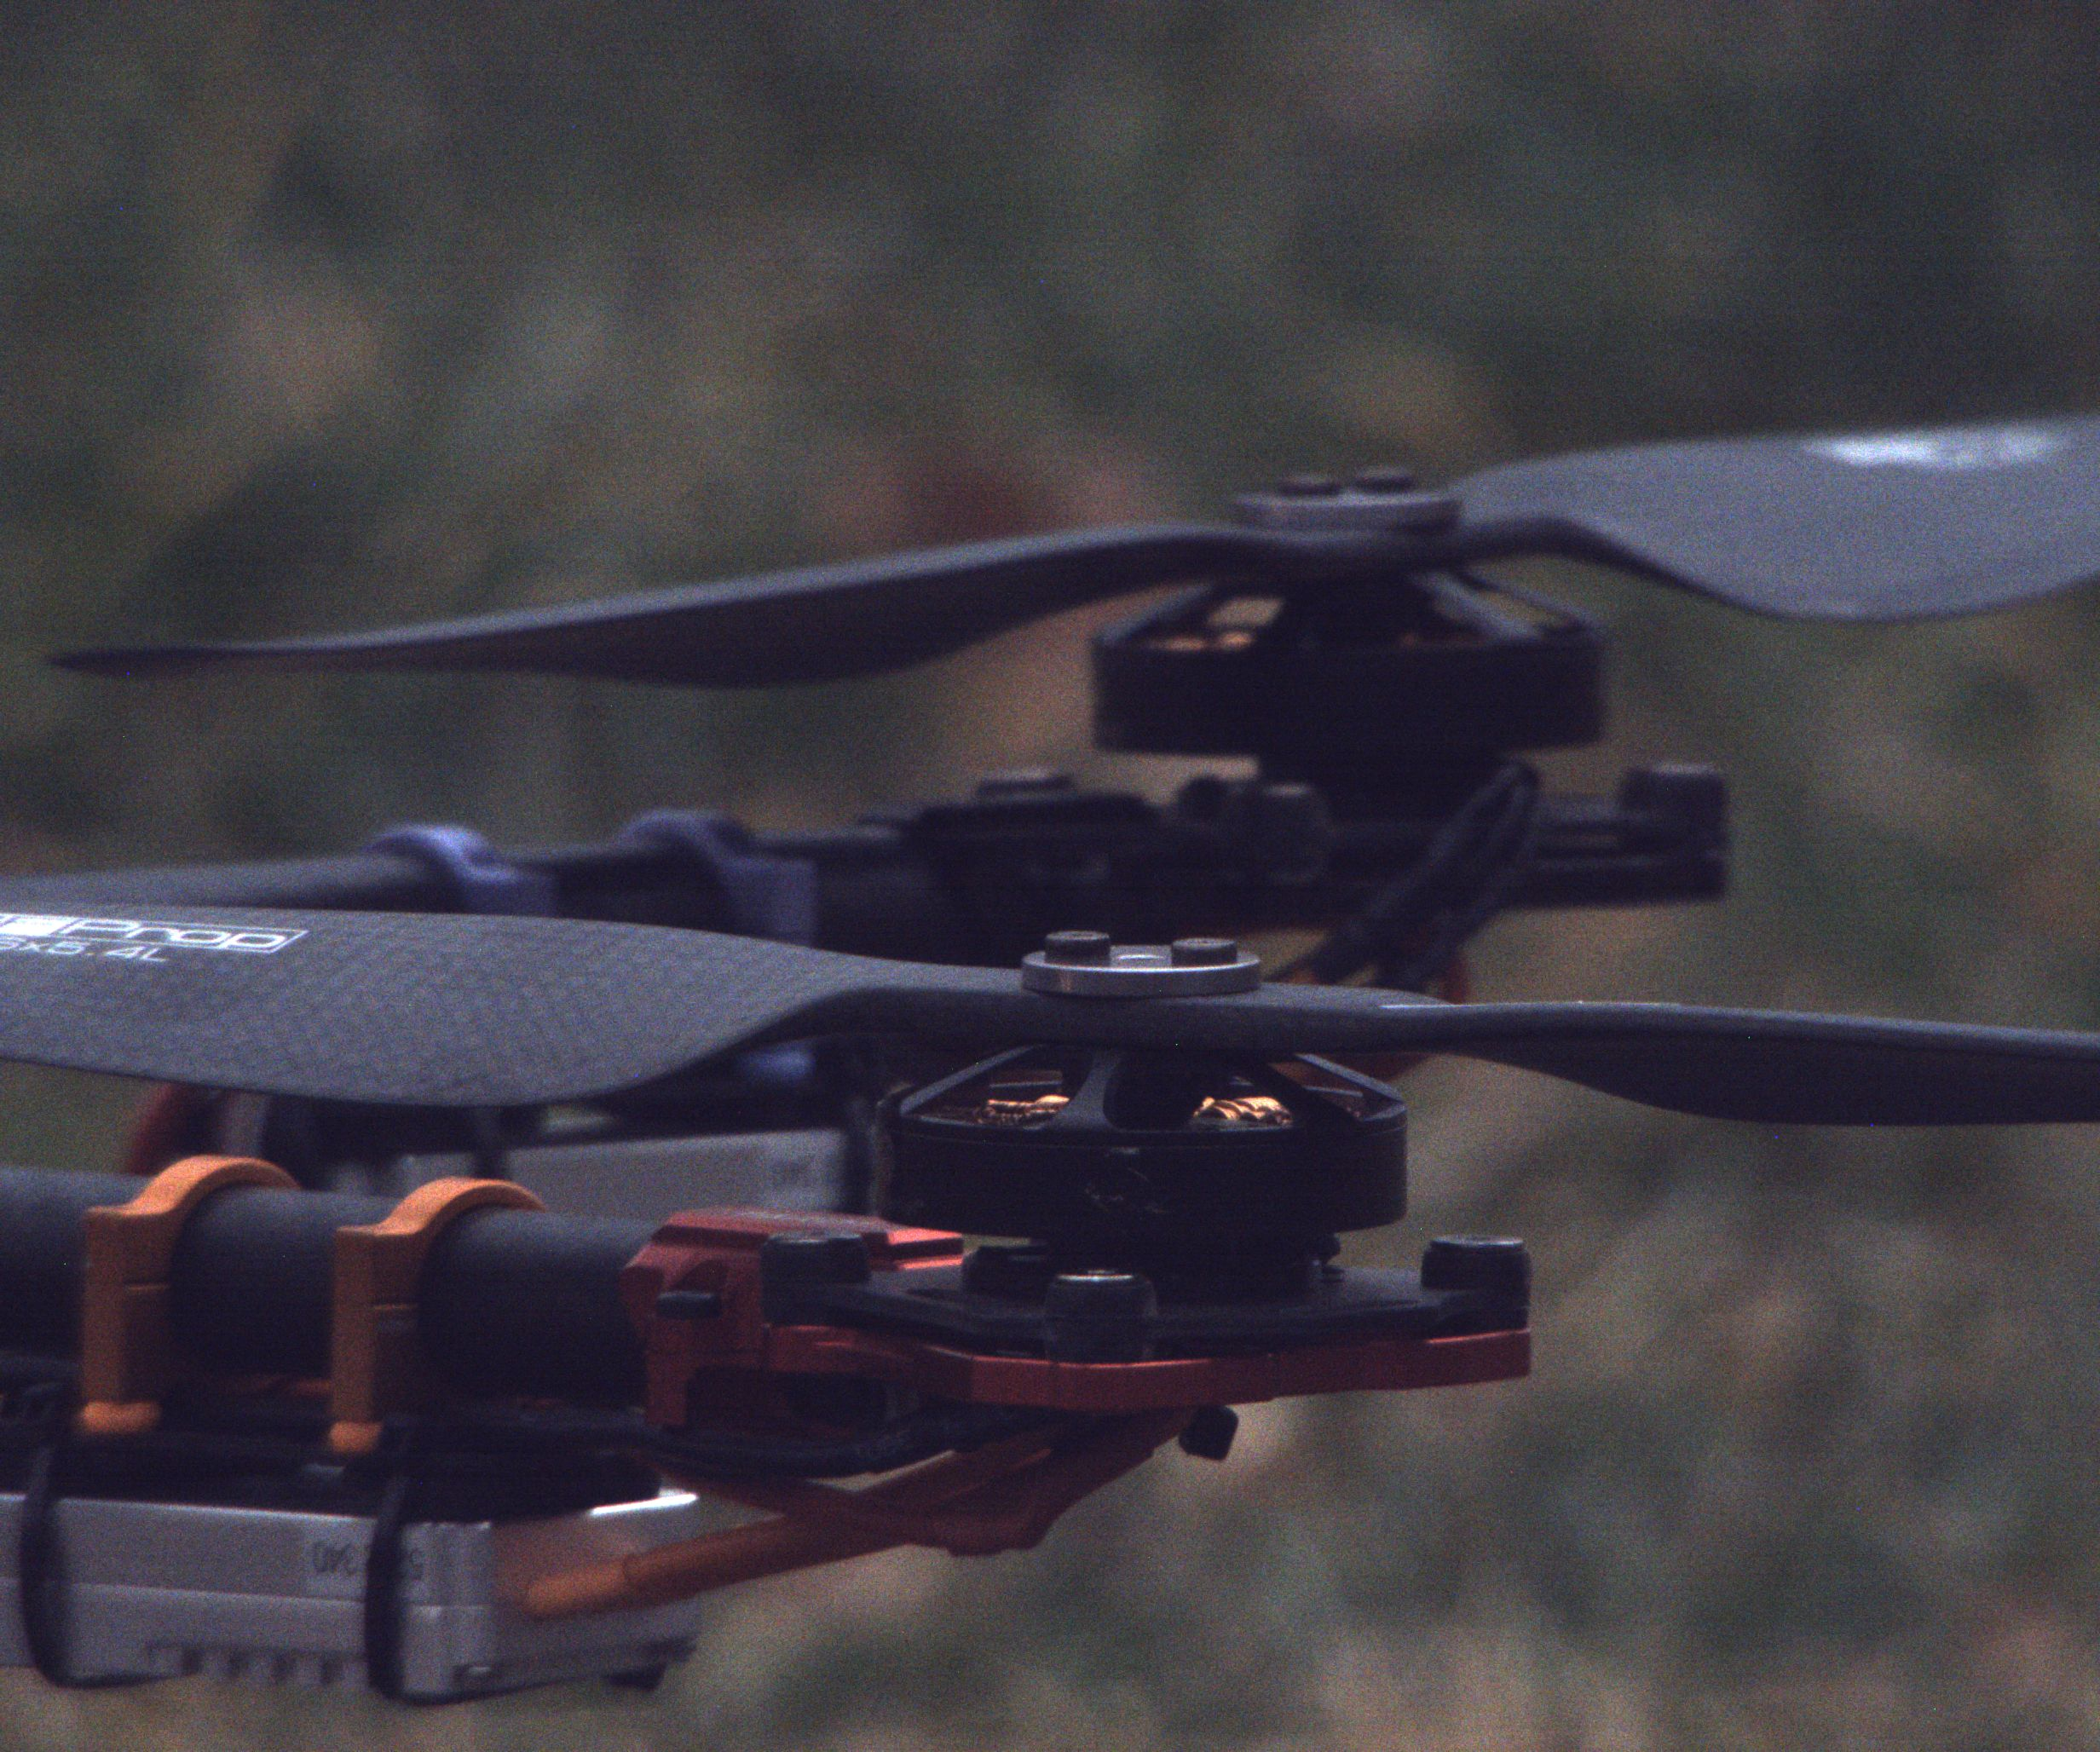Drohne: (2, 417, 2100, 1707)
